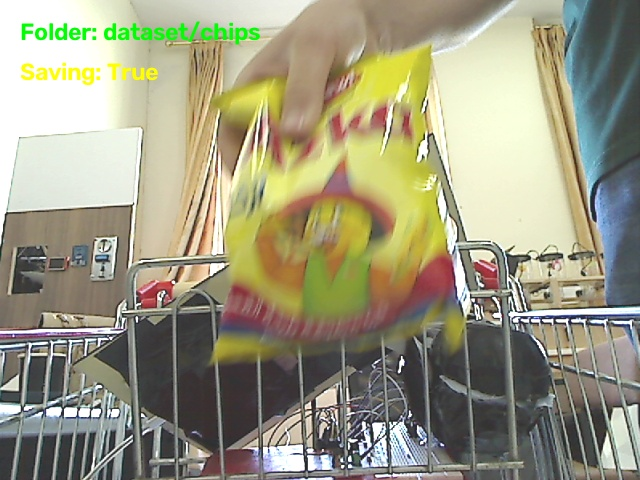chips: (213, 47, 463, 361)
